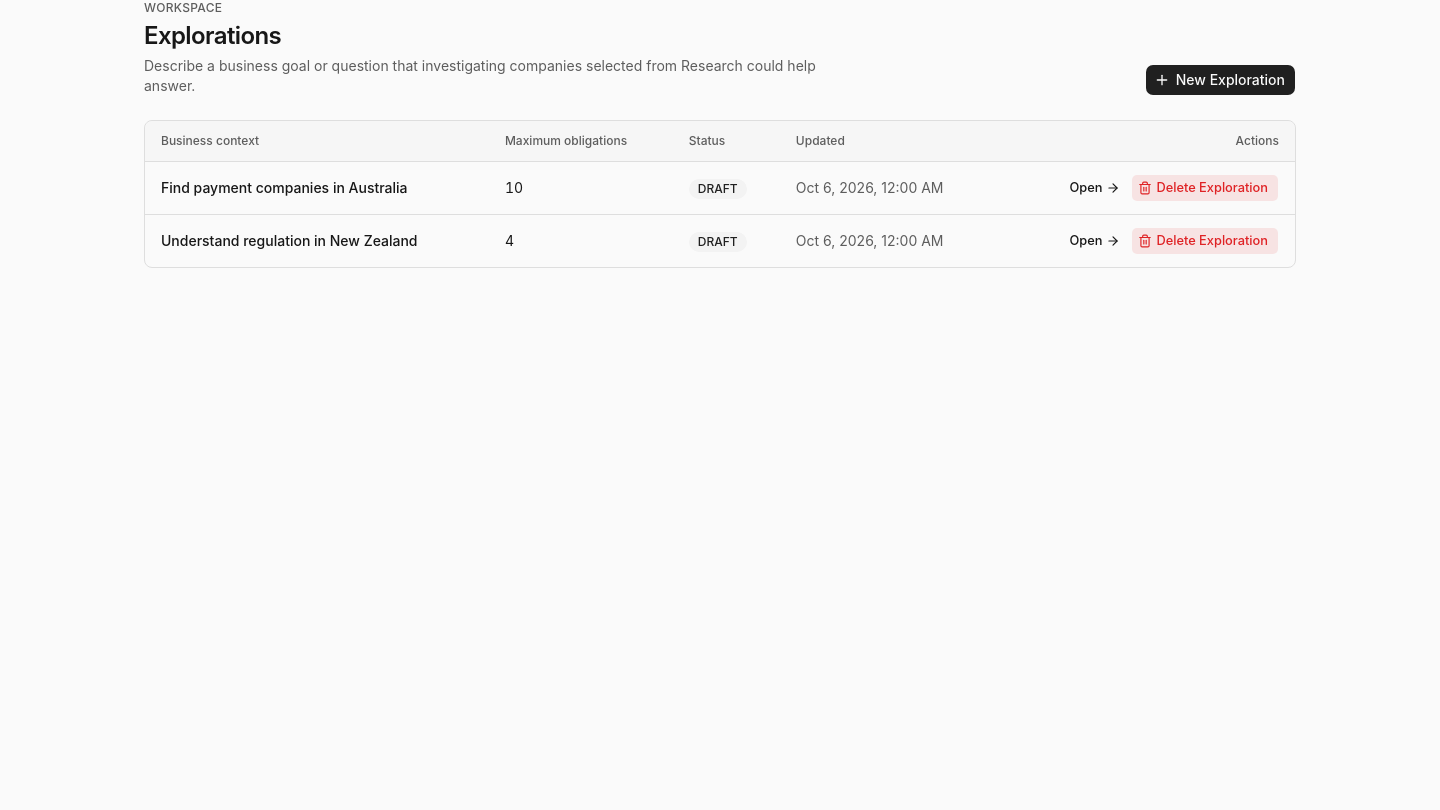
Test: ExplorationsPage › confirms row deletion, prevents duplicate submits, and refreshes the list
Click the button "Delete Exploration" in the row of "Find payment companies in Australia" at (1205, 188), box [1132,174,1279,202]
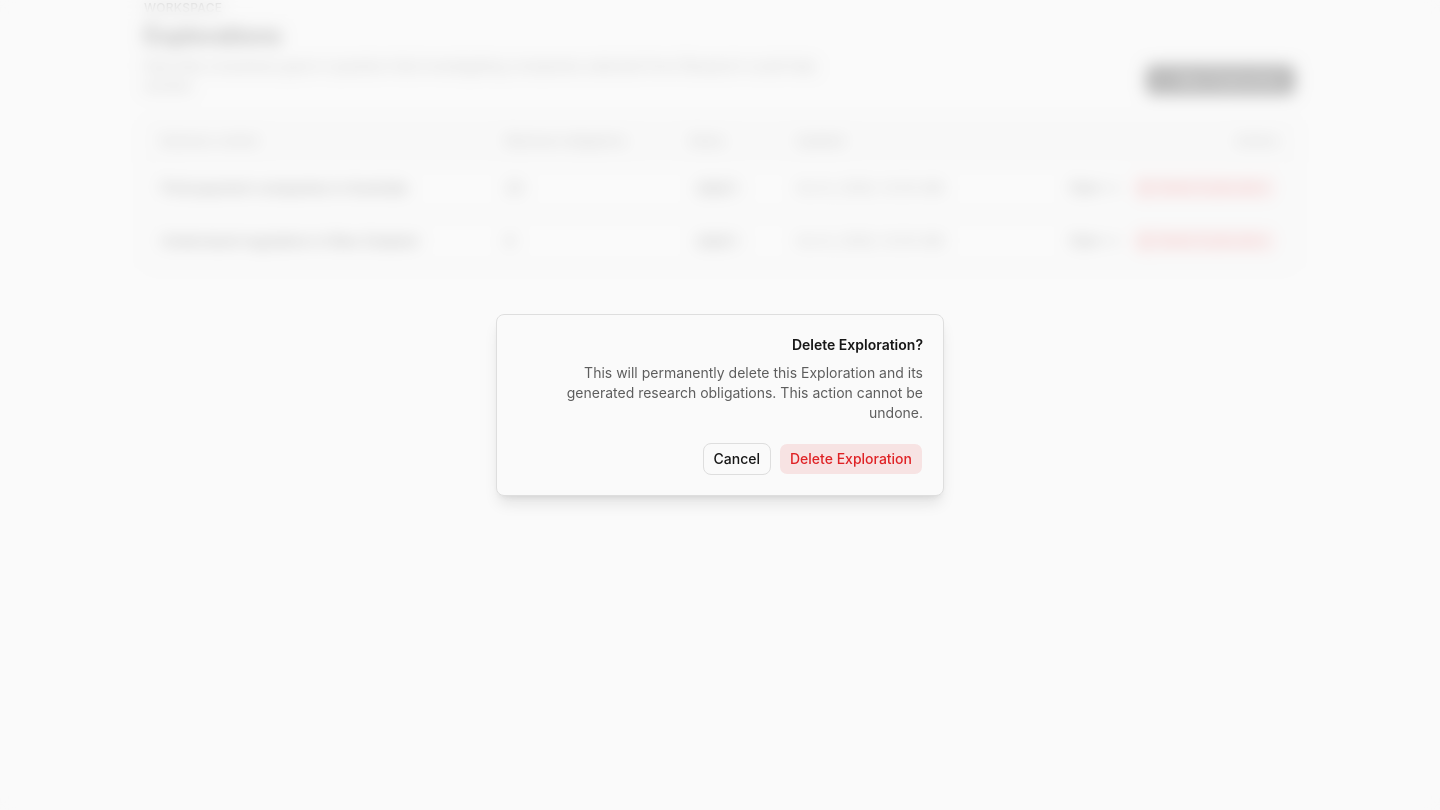
Expected: the dialog shows "permanently delete this Exploration and its generated research obligations", [567,364,923,421]
Click the button "Cancel" at (737, 459), box [702,443,771,475]
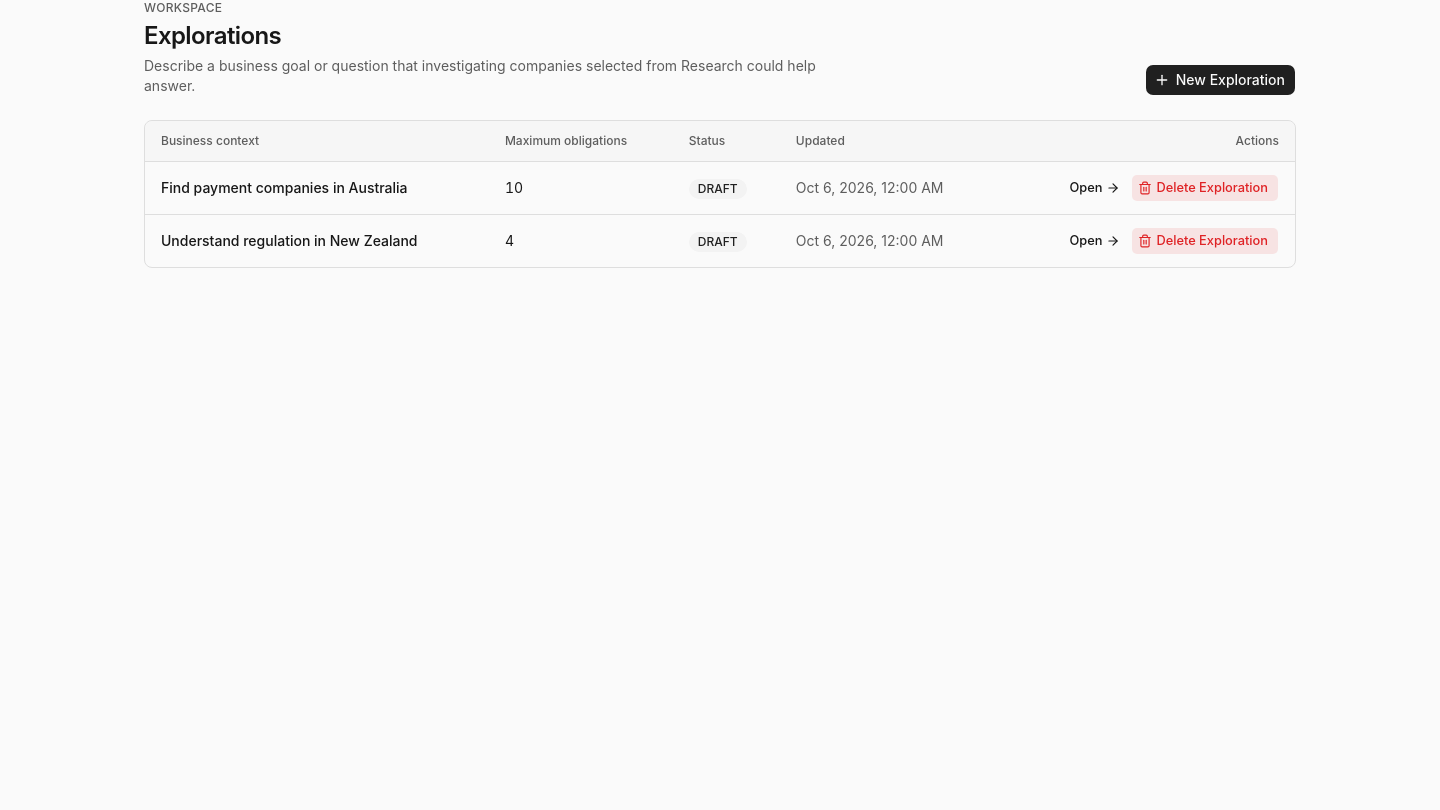
Click the button "Delete Exploration" in the row of "Find payment companies in Australia" at (1205, 188), box [1132,174,1279,202]
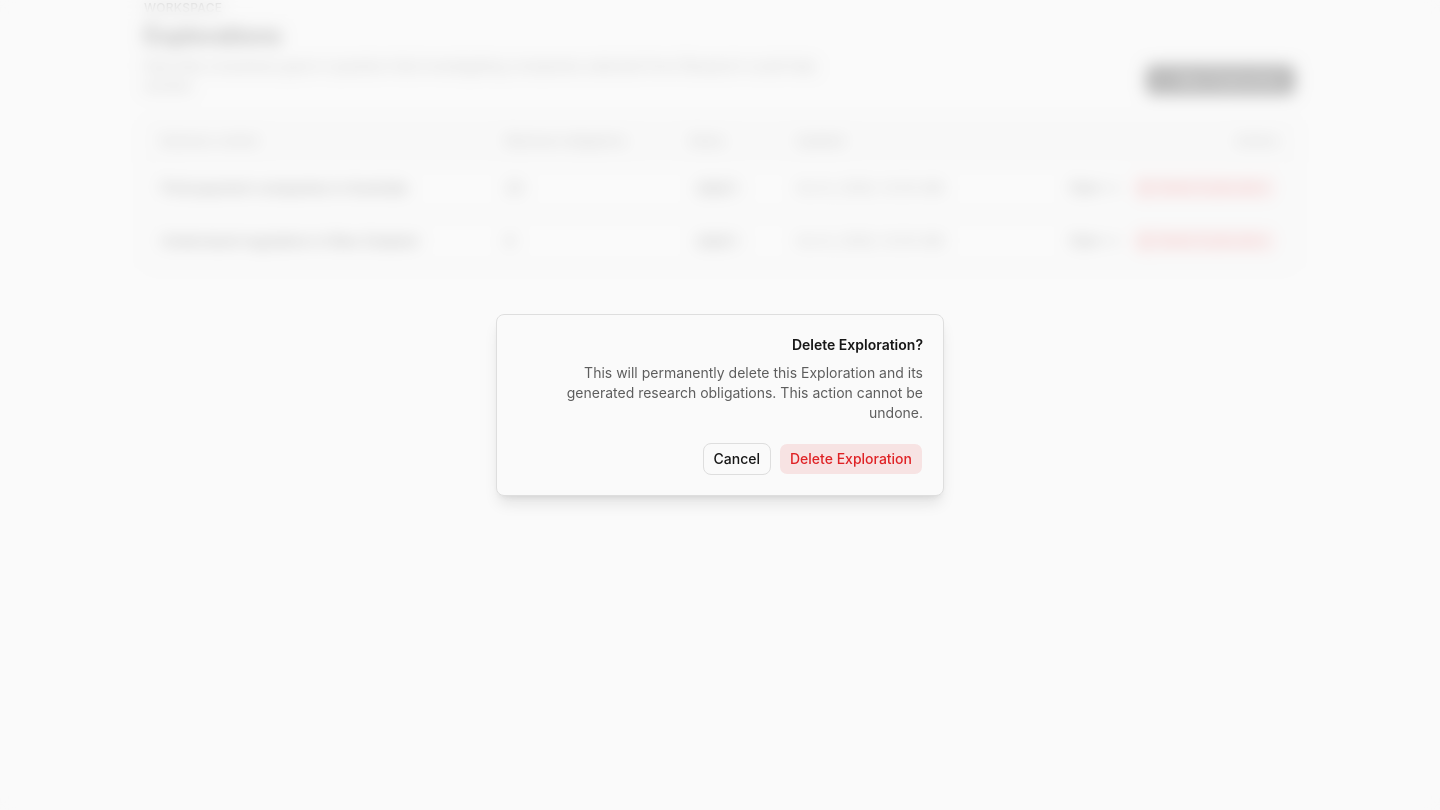
Click the button "Delete Exploration" below "Delete Exploration?" at (851, 459), box [779,443,923,475]
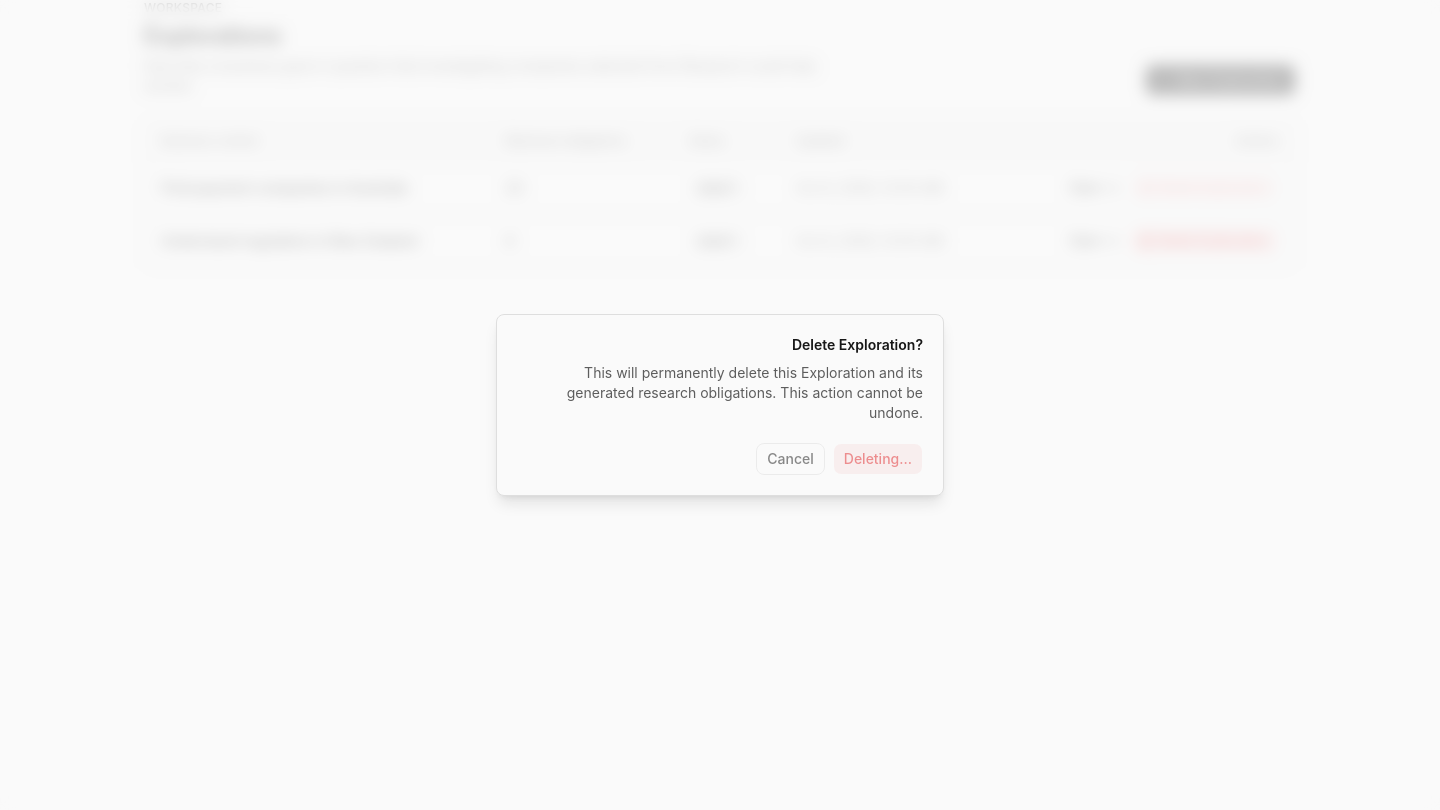
Expected: the button named "Delete Exploration" is disabled
Click the button named "Delete Exploration" at (878, 459), box [833,443,923,475]
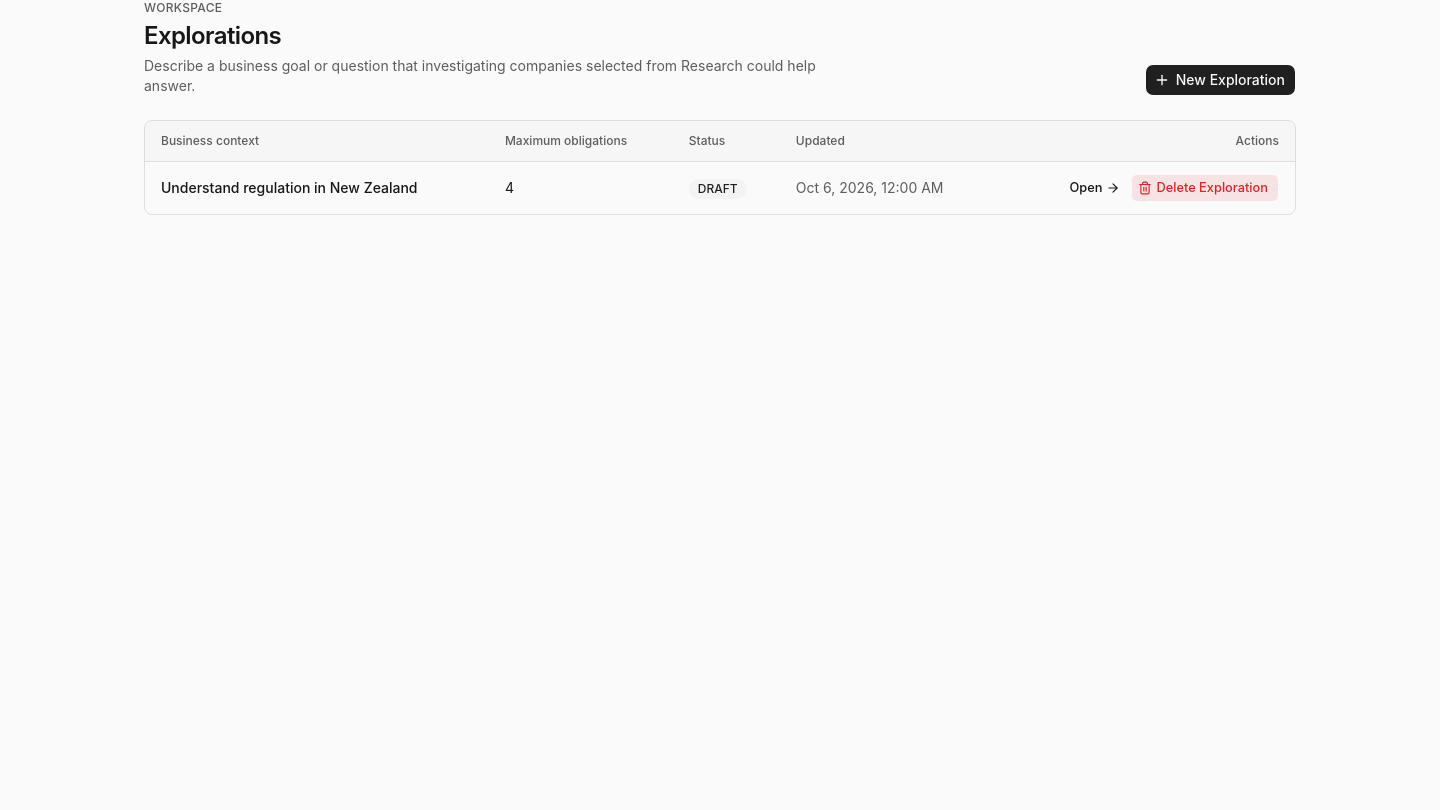
Expected: the row "Understand regulation" is shown, [145,162,1295,214]
Expected: the link "Find payment companies" is gone
Expected: the dialog is gone
